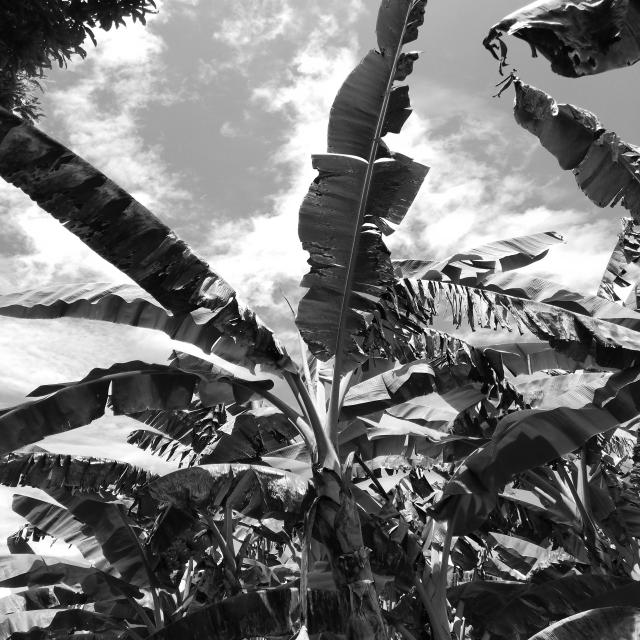Banana-plant: (284, 412, 386, 640)
